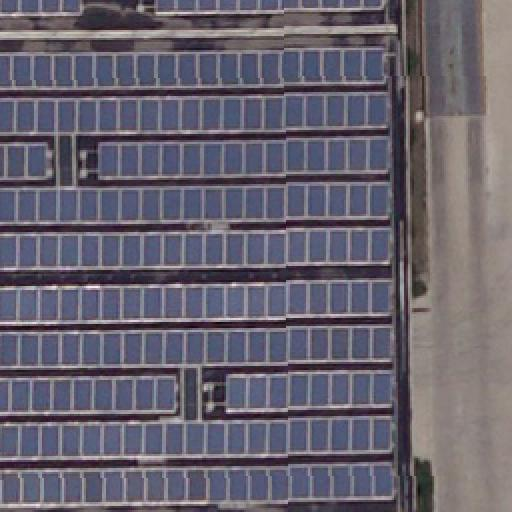solar-panel: (0, 461, 396, 507), (0, 417, 396, 463), (0, 281, 392, 327), (0, 181, 392, 227), (1, 45, 391, 91), (0, 228, 392, 272), (1, 92, 391, 136), (0, 327, 392, 369), (97, 136, 391, 180), (224, 370, 396, 414), (0, 375, 176, 417), (155, 0, 389, 16), (0, 142, 48, 182), (0, 0, 84, 16)
